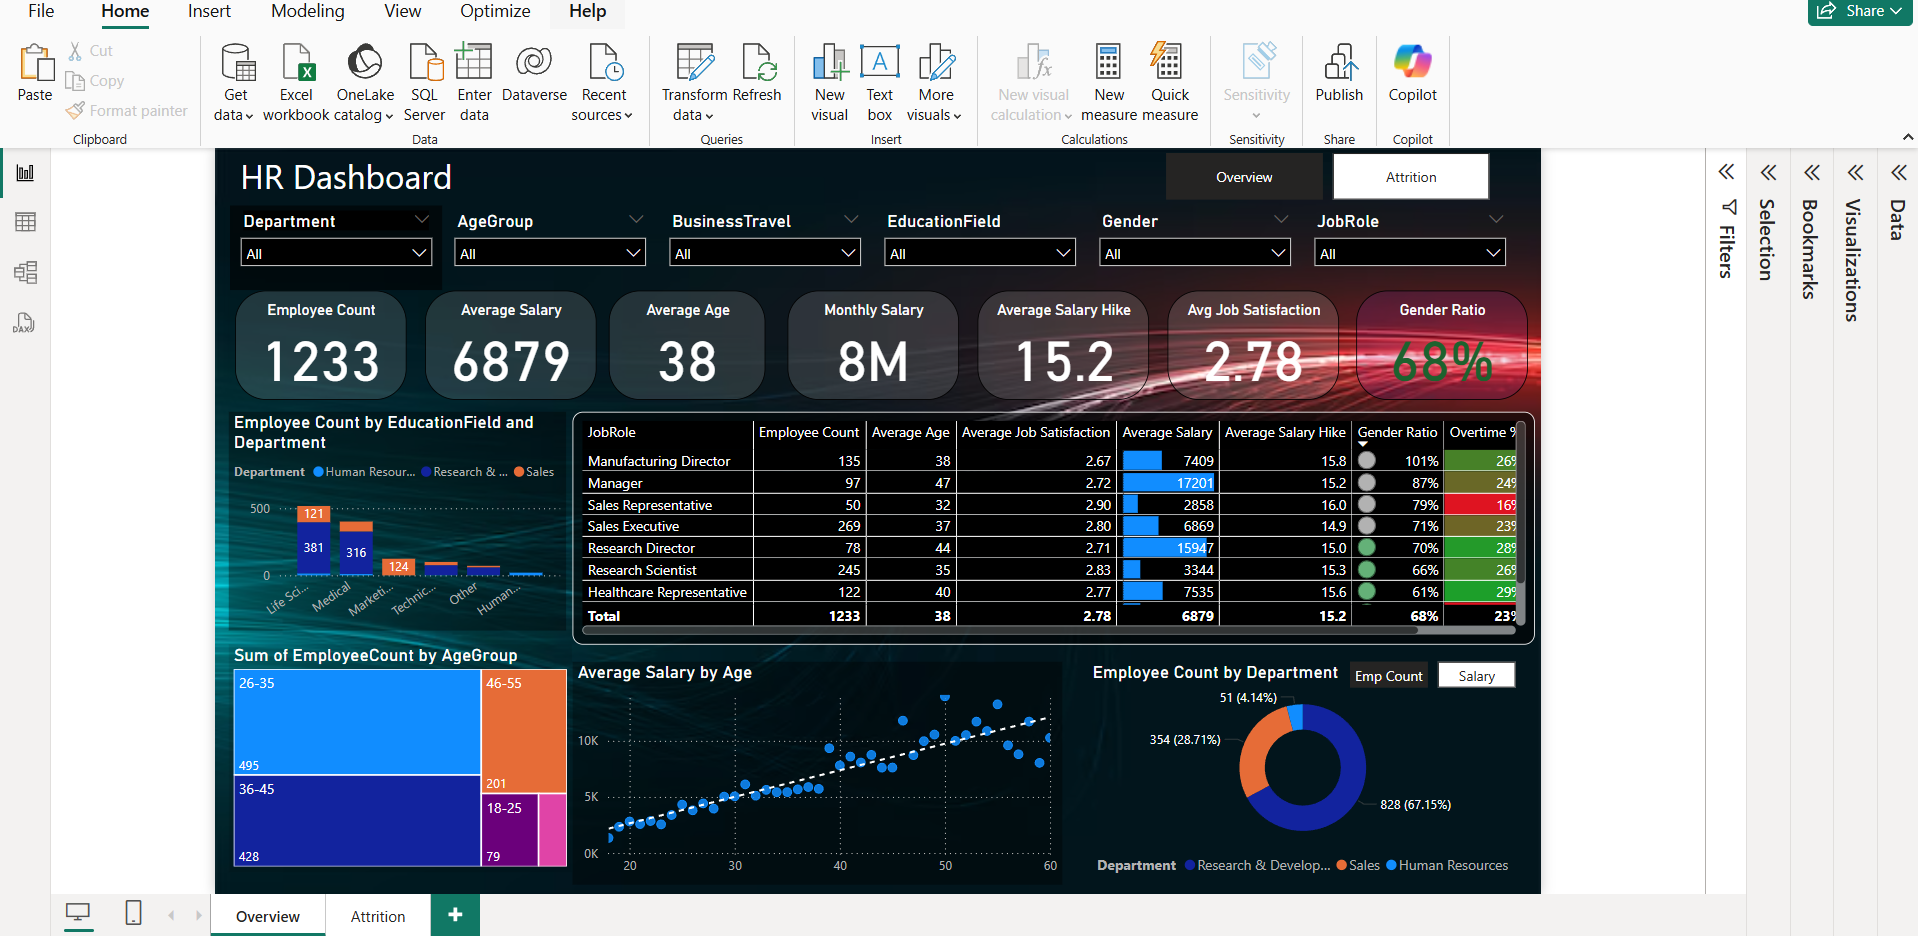

The page's visual inventory and layout, read from the dashboard file:
{"tool":"powerbi","page":{"name":"Overview","canvas":[1280,720],"ordinal":0},"visuals":[{"type":"slicer","fields":{"Values":["HR_Analytics.Department"]},"box":[13.9,55.6,205,81.9],"z":0},{"type":"slicer","title":"Department","fields":{"Values":["HR_Analytics.AgeGroup"]},"box":[220.9,55.6,205.6,81.9],"z":1000},{"type":"slicer","title":"Department","fields":{"Values":["HR_Analytics.BusinessTravel"]},"box":[428.6,55.6,205.6,81.9],"z":2000},{"type":"slicer","title":"Department","fields":{"Values":["HR_Analytics.EducationField"]},"box":[636.2,55.6,205.6,81.9],"z":3000},{"type":"slicer","title":"Department","fields":{"Values":["HR_Analytics.Gender"]},"box":[843.8,55.6,205.6,81.9],"z":4000},{"type":"textbox","box":[19.4,0,454.2,55.6],"z":5000},{"type":"slicer","title":"Department","fields":{"Values":["HR_Analytics.JobRole"]},"box":[1051.4,55.6,205.6,81.9],"z":6000},{"type":"card","title":"Employee Count","fields":{"Values":["HR_Analytics.Employee Count"]},"box":[19.4,137.5,165.3,105.6],"z":7000},{"type":"card","title":"Average Salary","fields":{"Values":["HR_Analytics.Average Salary"]},"box":[202.1,137.5,165.3,105.6],"z":8000},{"type":"card","title":"Monthly Salary","fields":{"Values":["HR_Analytics.Monthly Salary"]},"box":[552.8,137.5,165.3,105.6],"z":9000},{"type":"card","title":"Average Age","fields":{"Values":["HR_Analytics.Average Age"]},"box":[380.6,137.5,151.4,105.6],"z":10000},{"type":"card","title":"Average Salary Hike","fields":{"Values":["HR_Analytics.Average Salary Hike"]},"box":[736.1,137.5,165.3,105.6],"z":11000},{"type":"card","title":"Avg Job Satisfaction","fields":{"Values":["HR_Analytics.Average Job Satisfaction"]},"box":[918.8,137.5,165.3,105.6],"z":12000},{"type":"card","title":"Gender Ratio","fields":{"Values":["HR_Analytics.Gender Ratio"]},"box":[1101.4,137.5,165.3,105.6],"z":13000},{"type":"columnChart","fields":{"Category":["HR_Analytics.EducationField"],"Y":["HR_Analytics.Employee Count"],"Series":["HR_Analytics.Department"]},"box":[13.7,254.6,325.3,211.1],"z":14000},{"type":"treemap","fields":{"Values":["Sum(HR_Analytics.EmployeeCount)"],"Group":["HR_Analytics.AgeGroup"]},"box":[13.7,479.3,331.5,219.8],"z":15000},{"type":"donutChart","fields":{"Y":["HR_Analytics.Employee Count"],"Category":["HR_Analytics.Department"]},"box":[841.9,495.5,416,214.8],"z":16000},{"type":"tableEx","fields":{"Values":["HR_Analytics.JobRole","HR_Analytics.Employee Count","HR_Analytics.Average Age","HR_Analytics.Average Job Satisfaction","HR_Analytics.Average Salary","HR_Analytics.Average Salary Hike","HR_Analytics.Gender Ratio","HR_Analytics.Overtime %","HR_Analytics.Average Years"]},"box":[345.2,254.6,928.8,224.8],"z":17000},{"type":"scatterChart","fields":{"X":["HR_Analytics.Age"],"Y":["HR_Analytics.Average Salary"]},"box":[345.2,495.5,473.1,214.8],"z":18000},{"type":"pageNavigator","box":[918.3,4.9,313,45.2],"z":19000},{"type":"bookmarkNavigator","box":[1095.4,495.8,160.5,25.3],"z":20001}]}

Visuals, with their boxes on the page's 1280x720 design canvas (x1, y1, x2, y2). These are canvas units, not pixel positions in the 1918x936 screenshot, which may show the page scaled, cropped or inside an application window:
slicer - HR_Analytics.Department: box=[14, 56, 219, 138]
"Department" slicer: box=[221, 56, 426, 138]
"Department" slicer: box=[429, 56, 634, 138]
"Department" slicer: box=[636, 56, 842, 138]
"Department" slicer: box=[844, 56, 1049, 138]
textbox: box=[19, 0, 474, 56]
"Department" slicer: box=[1051, 56, 1257, 138]
"Employee Count" card: box=[19, 138, 185, 243]
"Average Salary" card: box=[202, 138, 367, 243]
"Monthly Salary" card: box=[553, 138, 718, 243]
"Average Age" card: box=[381, 138, 532, 243]
"Average Salary Hike" card: box=[736, 138, 901, 243]
"Avg Job Satisfaction" card: box=[919, 138, 1084, 243]
"Gender Ratio" card: box=[1101, 138, 1267, 243]
columnChart - HR_Analytics.EducationField x HR_Analytics.Employee Count: box=[14, 255, 339, 466]
treemap - Sum(HR_Analytics.EmployeeCount) x HR_Analytics.AgeGroup: box=[14, 479, 345, 699]
donutChart - HR_Analytics.Employee Count x HR_Analytics.Department: box=[842, 496, 1258, 710]
tableEx - HR_Analytics.JobRole x HR_Analytics.Employee Count: box=[345, 255, 1274, 479]
scatterChart - HR_Analytics.Age x HR_Analytics.Average Salary: box=[345, 496, 818, 710]
pageNavigator: box=[918, 5, 1231, 50]
bookmarkNavigator: box=[1095, 496, 1256, 521]
